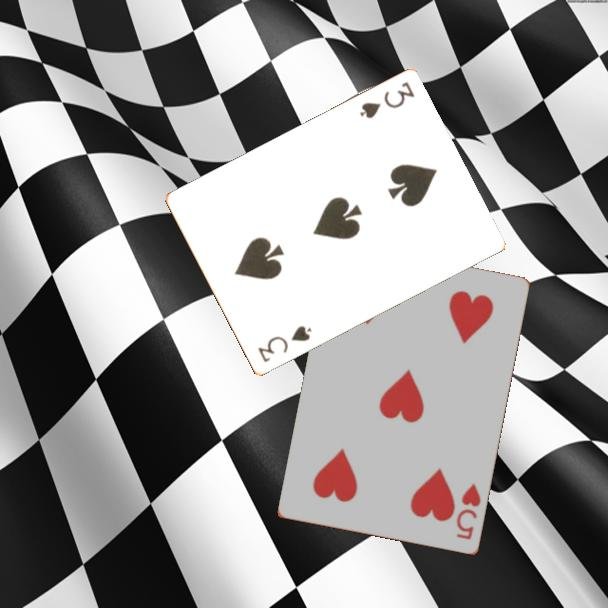h05: (453, 480, 484, 543)
s03: (254, 322, 314, 366), (356, 79, 417, 122)
